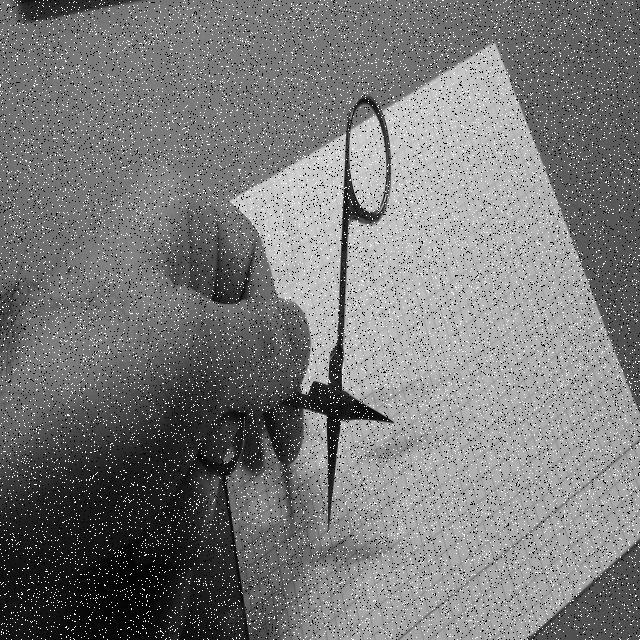scissors: (191, 88, 399, 544)
